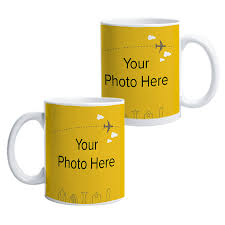mug: (6, 91, 155, 218), (89, 16, 214, 127)
